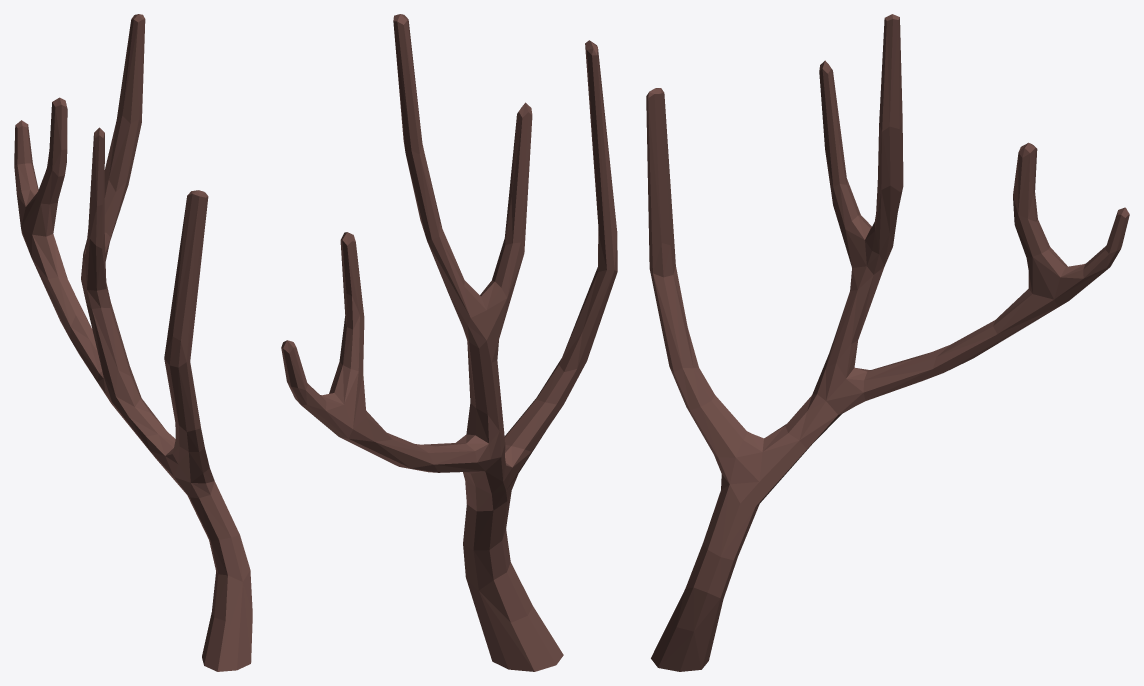
Rendered from Willow_Dead_1.lod1.glb.
3 renders of one model, left to right at view 1: azimuth 30°, elevation 25°; view 2: azimuth 150°, elevation 25°; view 3: azimuth 270°, elevation 25°, orthographic. The views are drawn at different scales.
Parts seen in each view (by area): view 1: Willow_Dead_1; view 2: Willow_Dead_1; view 3: Willow_Dead_1.
Boxes of the visible parts, x1=… form: Willow_Dead_1: x1=14, y1=14, x2=252, y2=671; Willow_Dead_1: x1=281, y1=14, x2=617, y2=671; Willow_Dead_1: x1=646, y1=14, x2=1129, y2=671.
Bounding box in the file's own units: 0.4977 × 2.69 × 1.82.
